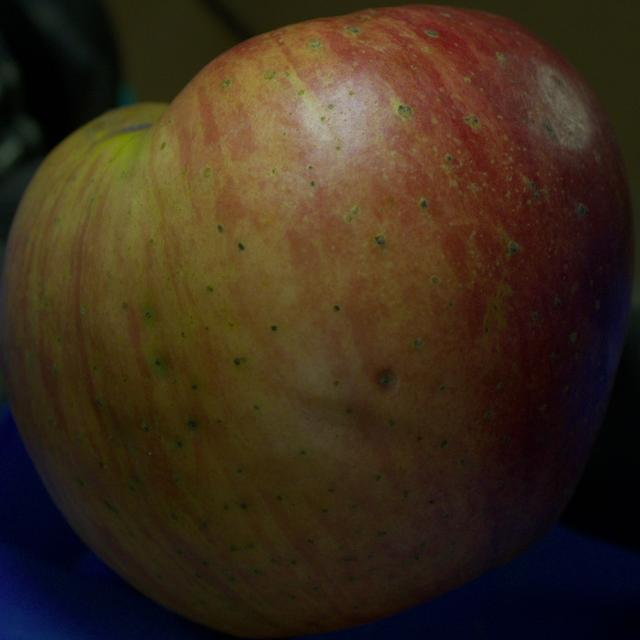apple: (0, 6, 634, 637)
bruise: (293, 392, 468, 470), (70, 404, 139, 466)
pest: (376, 369, 397, 390)
